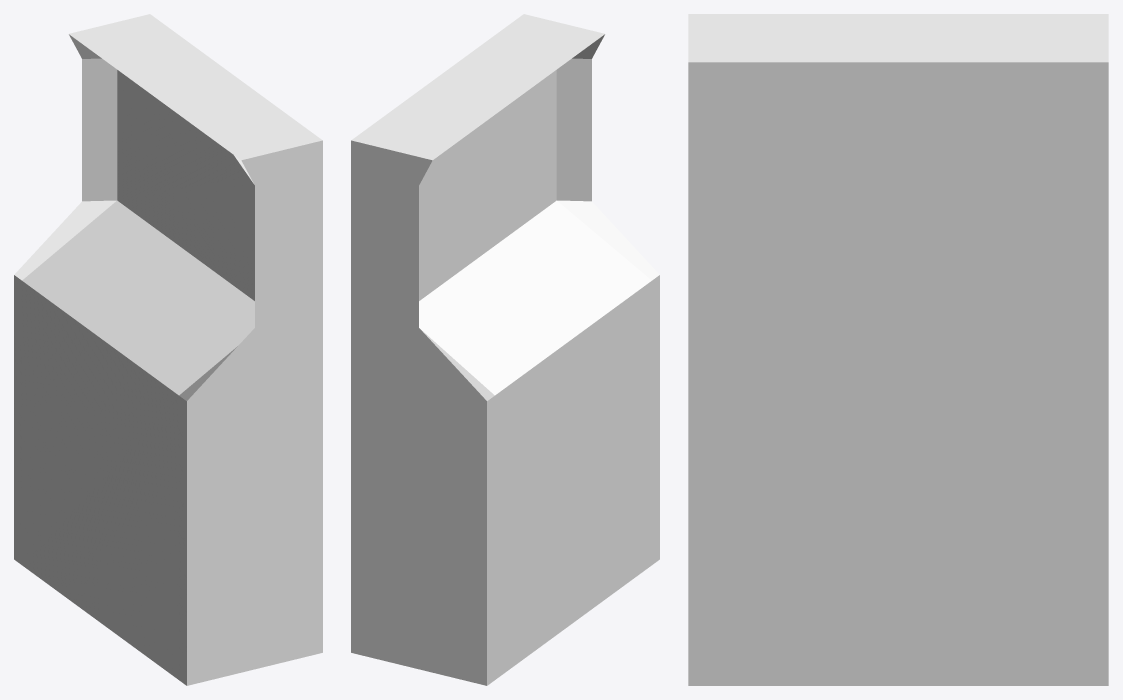
The model's file is Borne.fbx.
3 renders of one model, left to right at view 1: azimuth 30°, elevation 25°; view 2: azimuth 150°, elevation 25°; view 3: azimuth 270°, elevation 25°, orthographic. The views are drawn at different scales.
Visible parts, largest first — view 1: Cube; view 2: Cube; view 3: Cube.
Boxes of the visible parts, box(x1,y1,x2,y2) form: Cube: box(14, 14, 322, 685); Cube: box(351, 14, 659, 685); Cube: box(688, 14, 1108, 685).
Size of the model in its own units: 100 by 360 by 220.
1 material, 1 textured.
